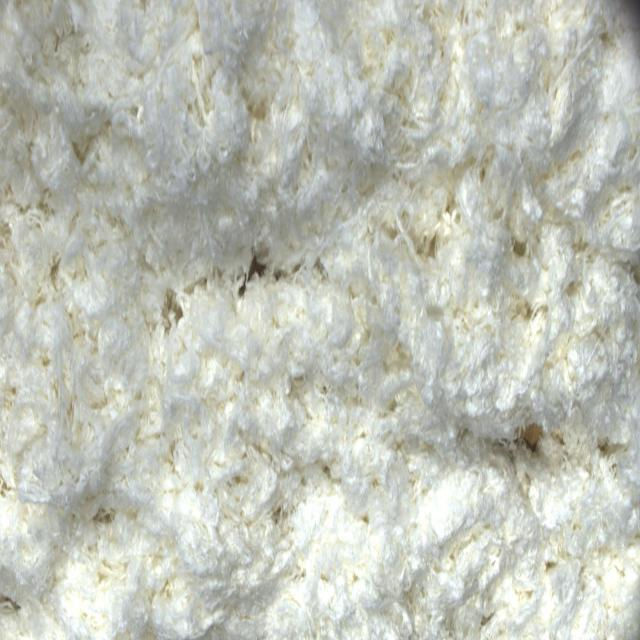dust: (517, 426, 551, 452)
